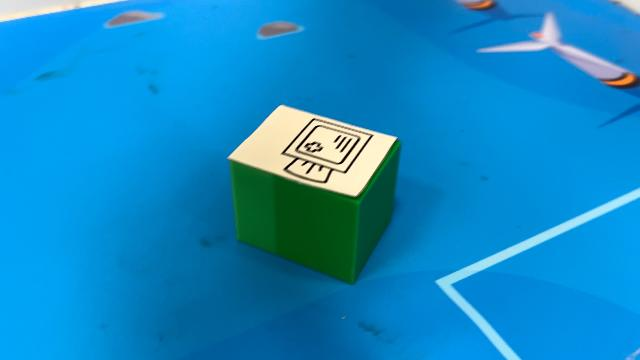napkin: (225, 102, 403, 284)
